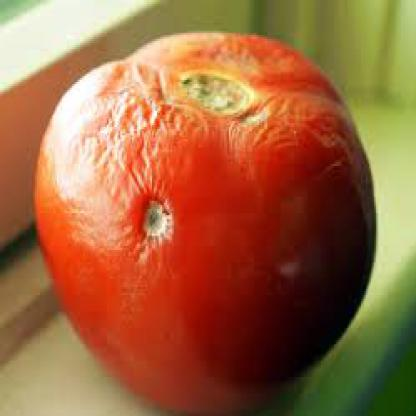Fresh: (162, 9, 164, 18)
Rotten: (3, 18, 396, 410)
